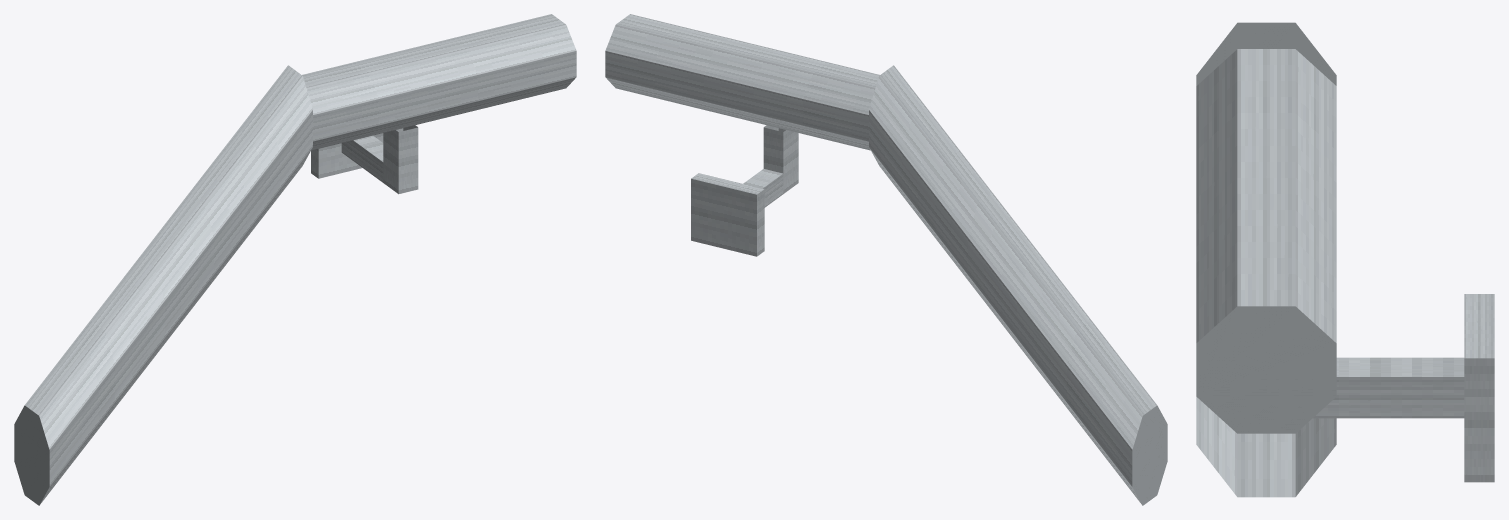
File: top_pos.obj
3 views of the same model, side by side, from view 1: azimuth 30°, elevation 25°; view 2: azimuth 150°, elevation 25°; view 3: azimuth 270°, elevation 25° (orthographic). The views are drawn at different scales.
Parts seen in each view (by area): view 1: handrail_wall_stainless_round_top_pos; view 2: handrail_wall_stainless_round_top_pos; view 3: handrail_wall_stainless_round_top_pos.
Part boxes in pixels (<box>): handrail_wall_stainless_round_top_pos: <box>14,14,576,505</box>; handrail_wall_stainless_round_top_pos: <box>605,14,1167,505</box>; handrail_wall_stainless_round_top_pos: <box>1196,22,1494,497</box>.
Size of the model in its own units: 1 by 0.6633 by 0.2452.
